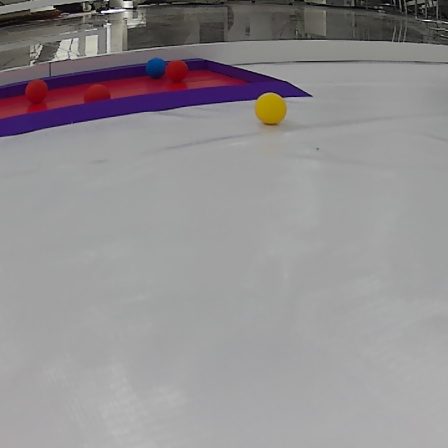blue: (147, 56, 166, 78)
red: (164, 60, 194, 84), (25, 78, 53, 101), (83, 86, 116, 104)
red_aim: (2, 55, 312, 136)
yellow: (255, 93, 287, 125)
